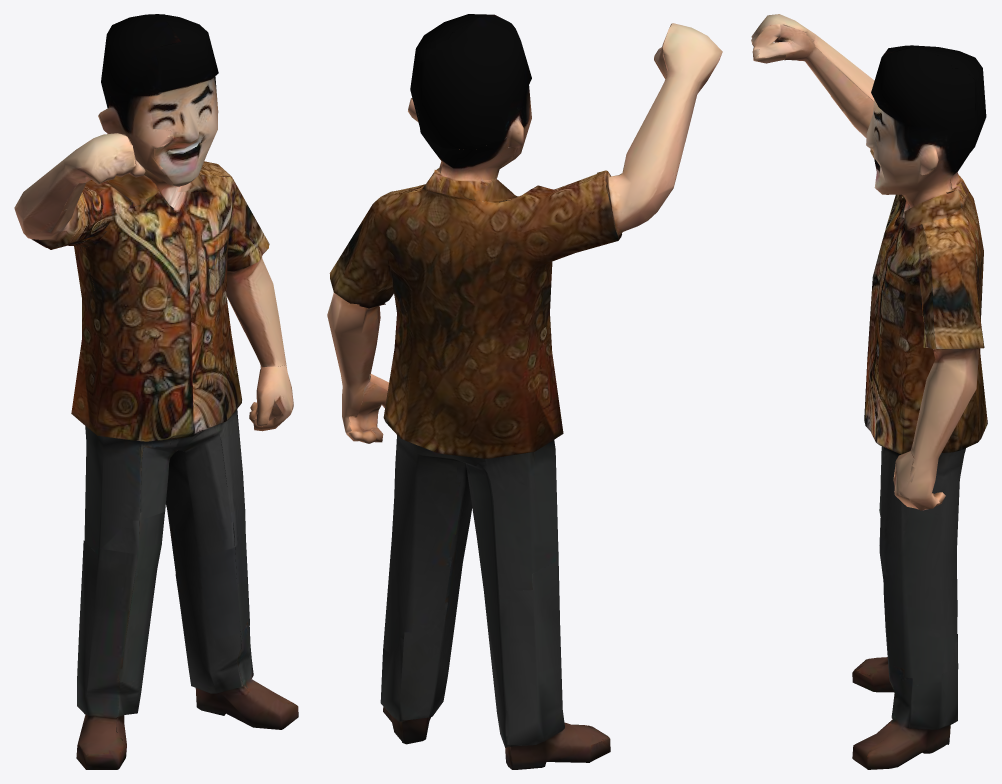
File: crowd-man.glb
3 renders of one model, left to right at view 1: azimuth 30°, elevation 25°; view 2: azimuth 150°, elevation 25°; view 3: azimuth 270°, elevation 25°, orthographic. The views are drawn at different scales.
Visible parts, largest first — view 1: model; view 2: model; view 3: model.
Part boxes in pixels (box(x1,y1,x2,y2)): model: box(14, 14, 298, 769); model: box(327, 14, 722, 769); model: box(751, 14, 987, 769).
Size of the model in its own units: 0.7273 by 1.68 by 0.5338.
1 material, 1 textured.
